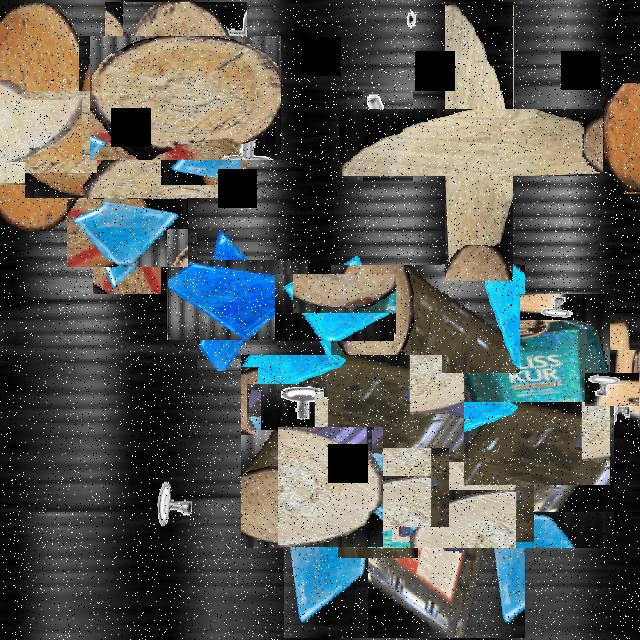glass: (284, 489, 368, 638), (182, 245, 292, 356), (322, 432, 433, 542), (289, 260, 383, 355), (80, 186, 174, 280)
metal: (105, 2, 165, 108), (353, 102, 423, 172), (151, 439, 203, 532), (255, 375, 319, 439), (406, 2, 446, 73), (595, 361, 640, 417)
plastic: (286, 310, 570, 593), (452, 305, 622, 474)
wood: (392, 55, 566, 229), (52, 63, 214, 225), (106, 19, 264, 177), (0, 2, 95, 229), (274, 430, 386, 544), (442, 245, 520, 374), (0, 90, 72, 172), (603, 84, 640, 194)
